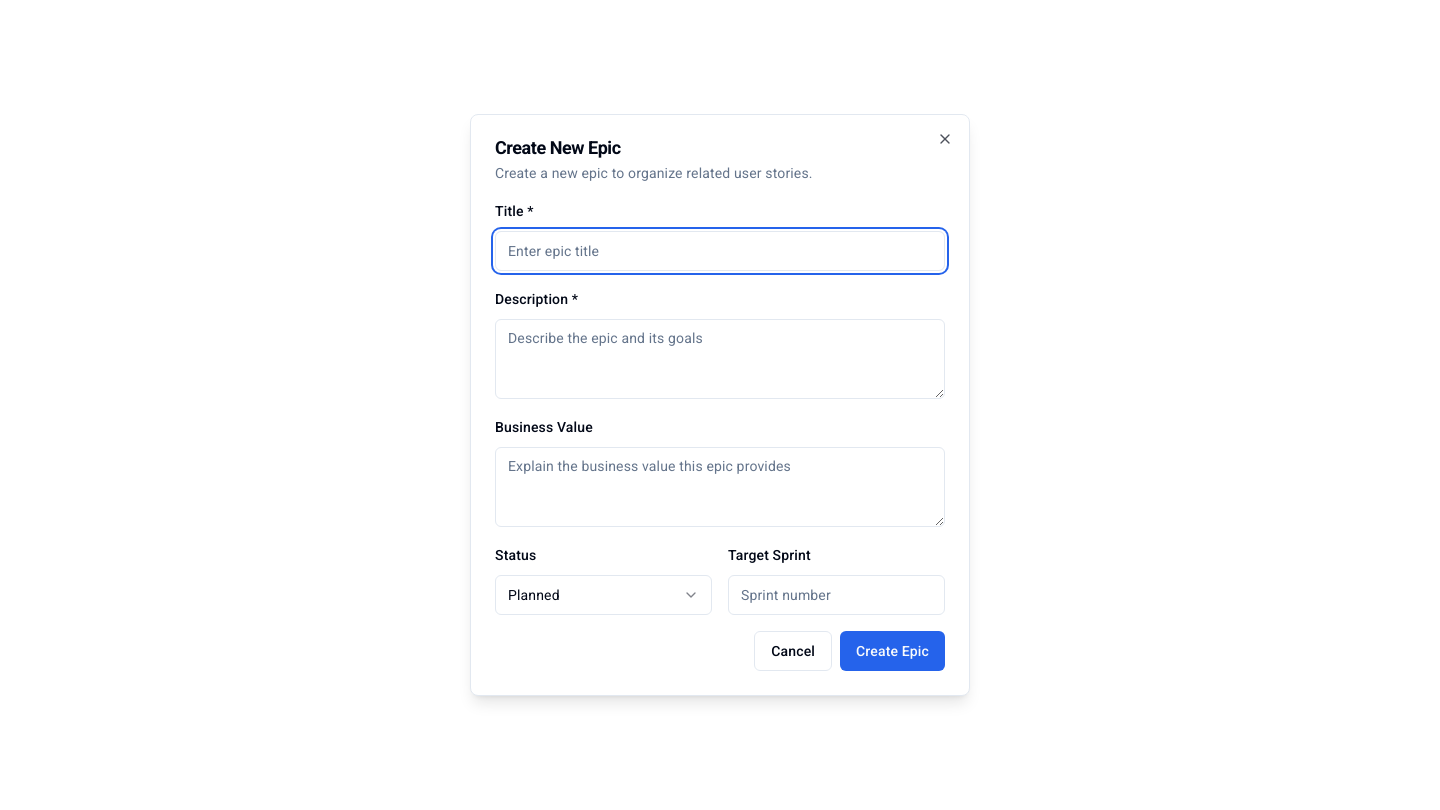
it: EpicForm › clears errors when user starts typing
Click the button "Create Epic" at point(892, 651), box [840,631,945,671]
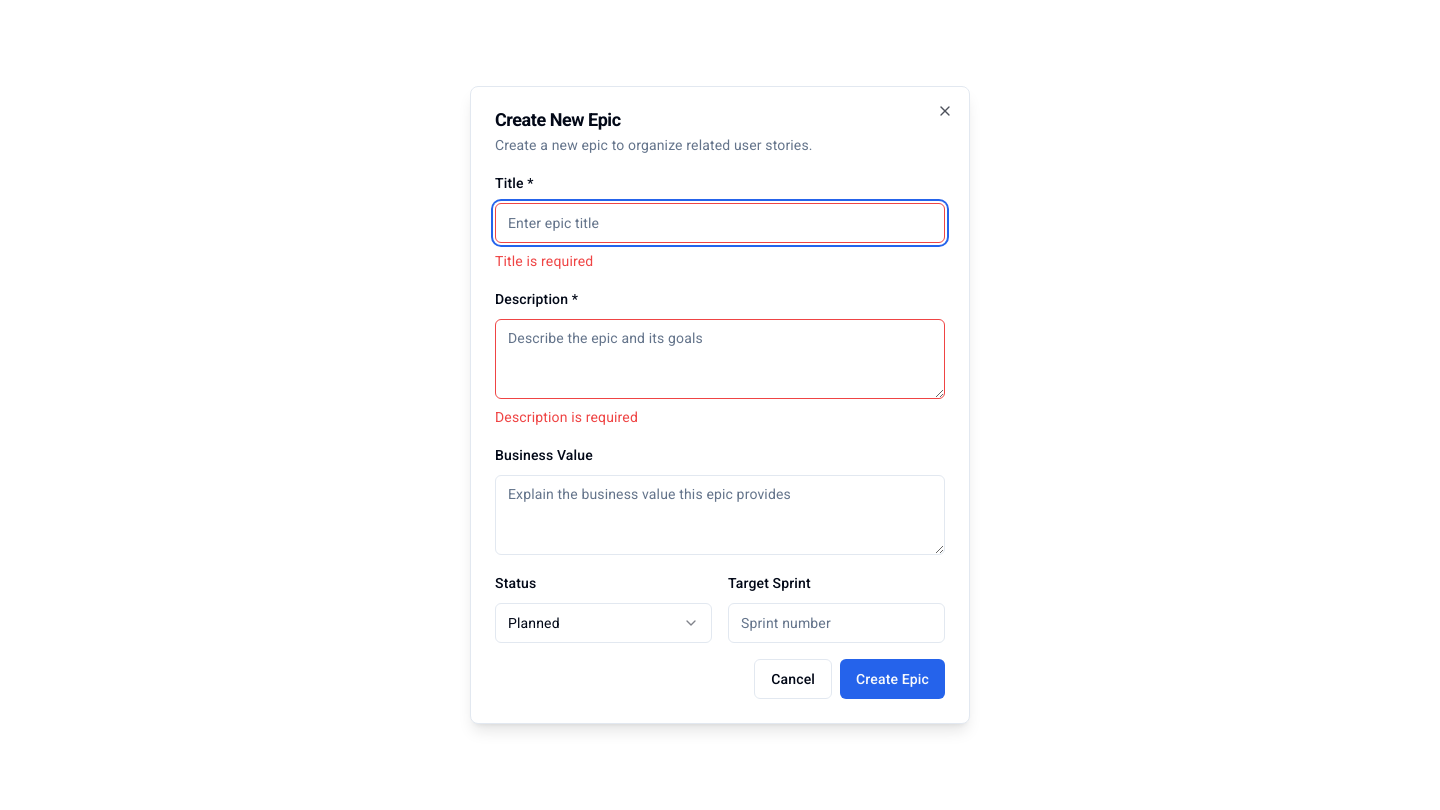
Expected: the text "Title is required" is shown, [495,253,593,269]
Type "New Title" into the field labelled "Title *" at point(720, 223), box [495,203,945,243]
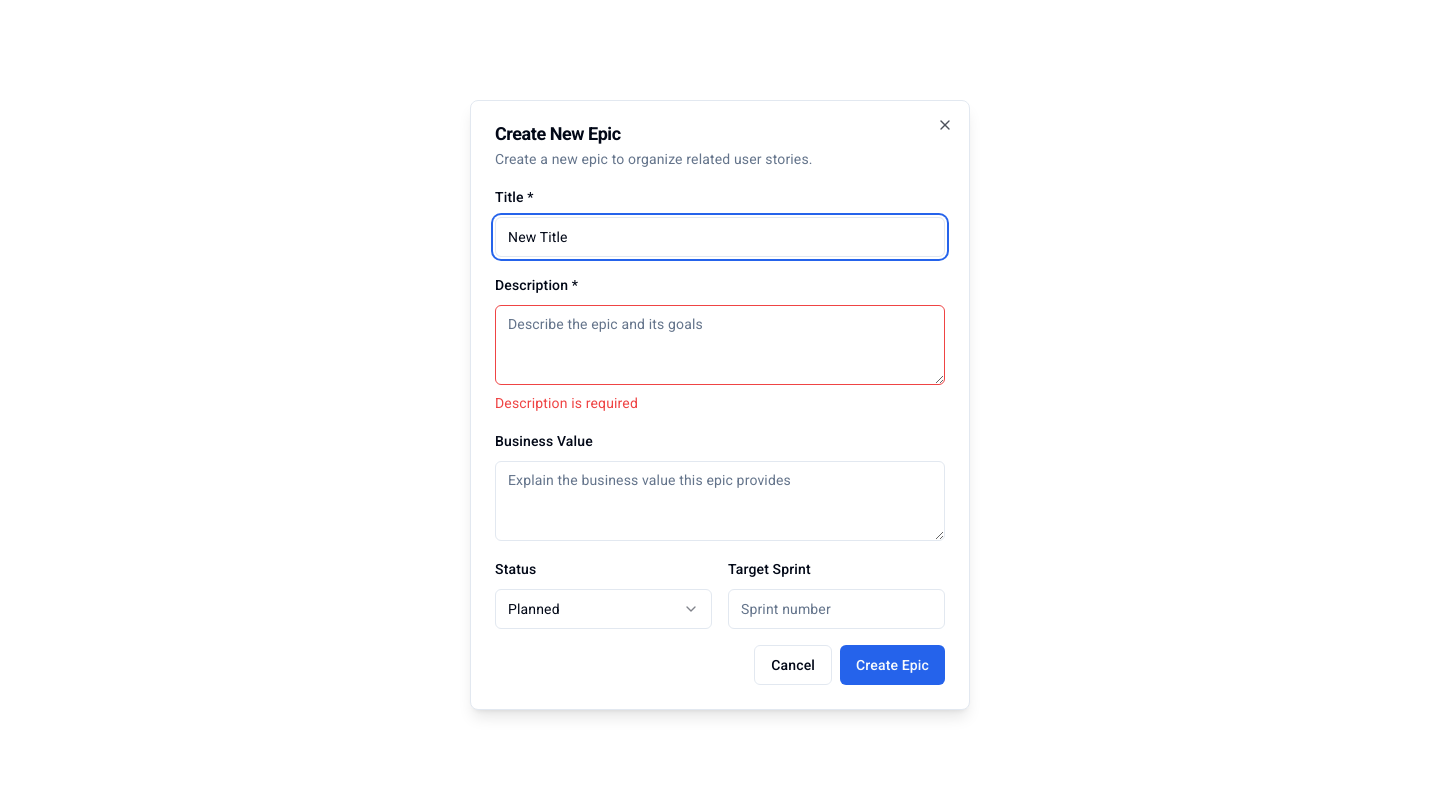
Expected: the text "Title is required" is gone
